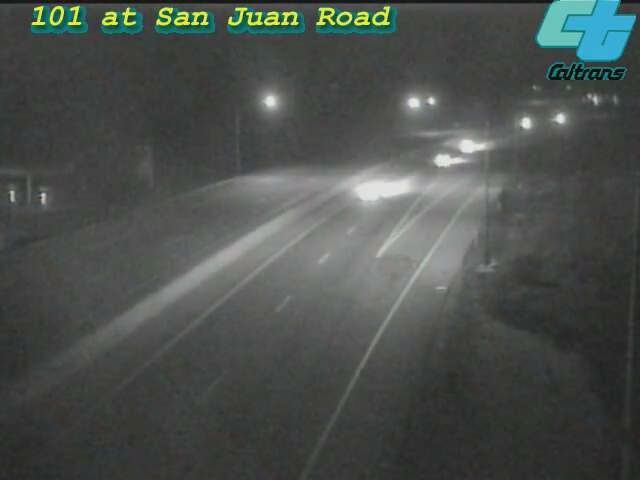vehicle: (330, 152, 410, 232), (501, 98, 551, 148), (532, 94, 582, 144), (443, 120, 493, 170), (417, 135, 467, 185)
